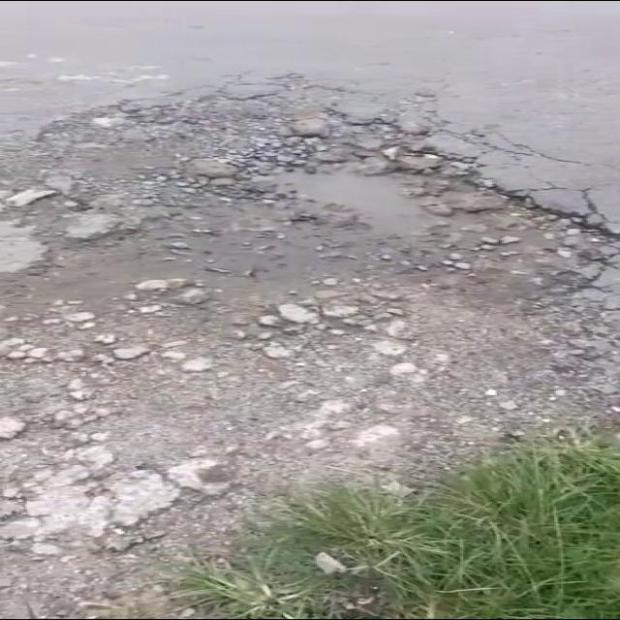lubang: (0, 94, 619, 599)
